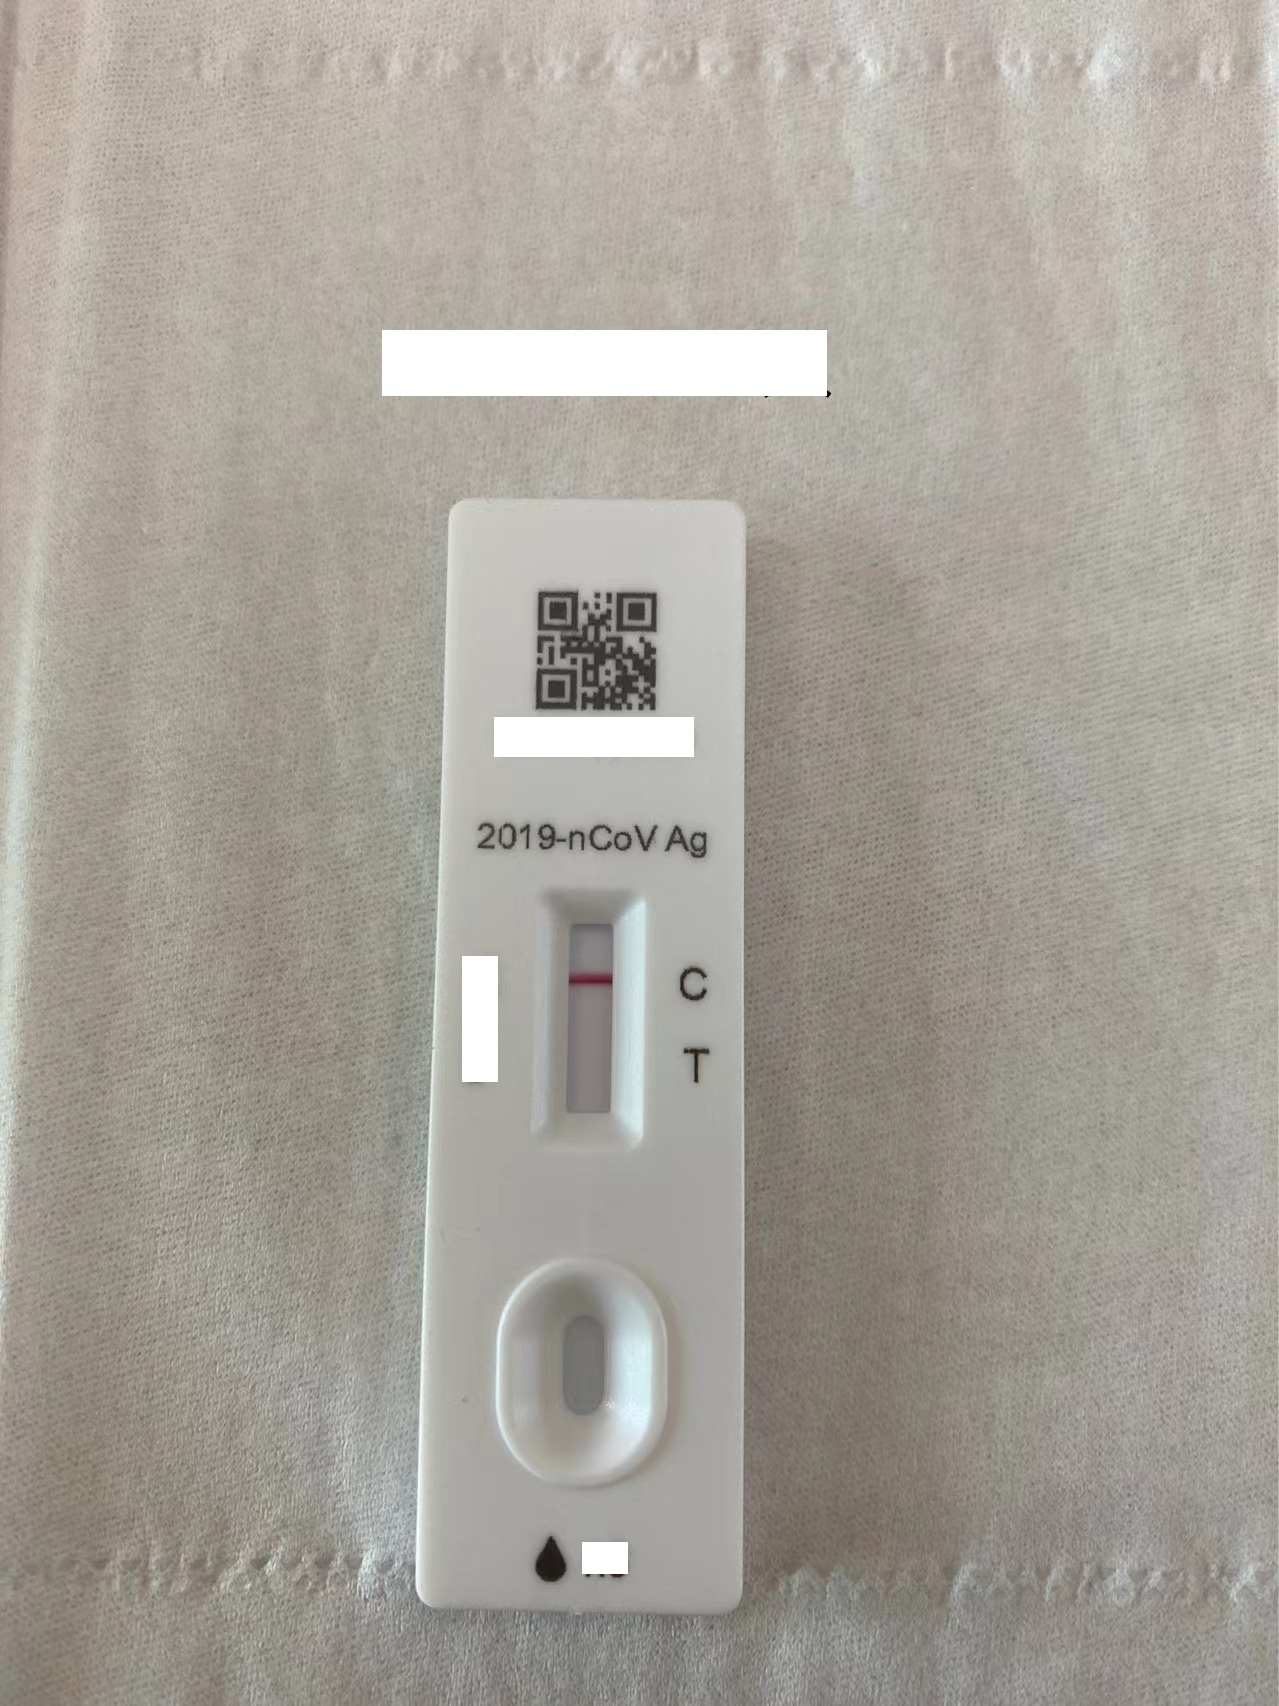negative: (537, 885, 642, 1157)
